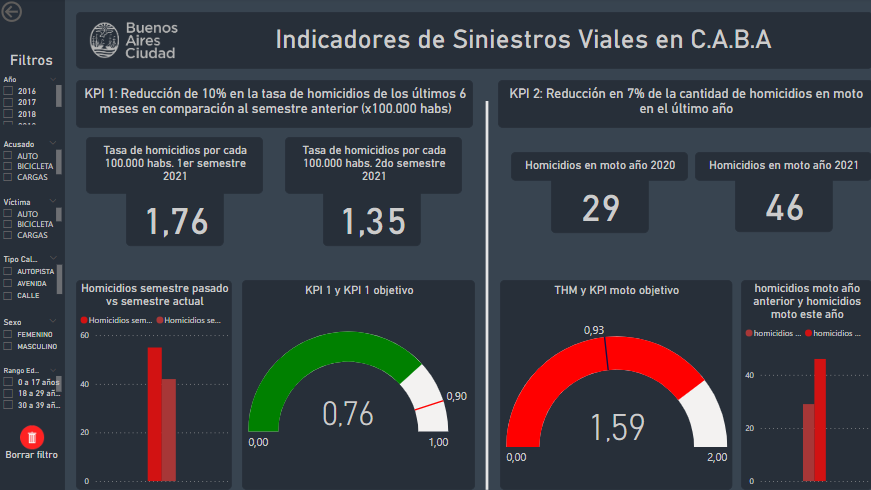

The dashboard page shown, as its layout file describes it:
{"tool":"powerbi","page":{"name":"KPI 1 y 2","canvas":[1280,720],"ordinal":2},"visuals":[{"type":"shape","box":[0,0,98,720],"z":0},{"type":"shape","box":[114.1,20.5,1166.3,83.4],"z":1000},{"type":"image","box":[113.5,20.7,169.8,83.4],"z":2000},{"type":"textbox","box":[331.5,32.4,873.7,60],"z":3000},{"type":"card","title":"Tasa de homicidios x 100.000 habs. Primer semestre 2021","fields":{"Values":["homicidios.TH semestre pasado"]},"box":[187.3,275.1,143.4,87.8],"z":4000},{"type":"gauge","fields":{"Y":["homicidios.KPI 1"],"TargetValue":["homicidios.KPI objetivo"]},"box":[357.1,412.7,341,307.3],"z":5000},{"type":"actionButton","box":[0,0,100,40],"z":6000},{"type":"clusteredColumnChart","title":"Homicidios semestre pasado vs semestre actual","fields":{"Y":["homicidios.Homicidios semestre pasado","homicidios.Homicidios semestre actual"]},"box":[114.1,412.7,228.3,307.3],"z":7000},{"type":"shape","box":[696.6,150.7,38,569.3],"z":8000},{"type":"gauge","fields":{"Y":["homicidios.THM"],"TargetValue":["homicidios.KPI moto objetivo"]},"box":[734.6,412.7,339.5,307.3],"z":9000},{"type":"clusteredColumnChart","fields":{"Y":["homicidios.homicidios moto año anterior","homicidios.homicidios moto este año"]},"box":[1087.3,412.7,191.7,307.3],"z":10000},{"type":"textbox","box":[114.1,120,581,70.2],"z":11000},{"type":"textbox","box":[731.7,120,548.8,70.2],"z":12000},{"type":"textbox","box":[128.8,203.4,259,83.4],"z":13000},{"type":"textbox","box":[420,203.4,259,83.4],"z":14000},{"type":"card","title":"Tasa de homicidios x 100.000 habs. Primer semestre 2021","fields":{"Values":["homicidios.TH semestre actual"]},"box":[475.6,275.1,143.4,87.8],"z":15000},{"type":"card","title":"Tasa de homicidios x 100.000 habs. Primer semestre 2021","fields":{"Values":["homicidios.homicidios moto año anterior"]},"box":[808.8,255.6,143.4,87.8],"z":16000},{"type":"textbox","box":[750.7,224.8,259,42.4],"z":17000},{"type":"card","title":"Tasa de homicidios x 100.000 habs. Primer semestre 2021","fields":{"Values":["homicidios.homicidios moto este año"]},"box":[1078.2,255.2,143.4,87.8],"z":18000},{"type":"textbox","box":[1020,224.8,259,42.4],"z":19000},{"type":"slicer","fields":{"Values":["victimas.FECHA.Variación.Jerarquía de fechas.Año"]},"box":[0,107.8,98,82],"z":20000},{"type":"slicer","fields":{"Values":["homicidios.TIPO_DE_CALLE"]},"box":[0,370.8,98.6,80.9],"z":21000},{"type":"image","box":[20.5,620,58.5,45.4],"z":22000},{"type":"slicer","fields":{"Values":["victimas.RANGO EDAD"]},"box":[0,533.7,98,73.2],"z":23000},{"type":"slicer","fields":{"Values":["homicidios.VICTIMA"]},"box":[0,201.5,98,73.2],"z":24000},{"type":"slicer","fields":{"Values":["victimas.VICTIMA"]},"box":[0,286.4,98,73.2],"z":25000},{"type":"textbox","box":[0,72.7,98,35.1],"z":26000},{"type":"slicer","fields":{"Values":["victimas.SEXO"]},"box":[0,462,98,80.5],"z":27000},{"type":"textbox","box":[0,654.1,98,32.2],"z":28000}]}

Visuals, with their boxes in screenshot pixels (x1, y1, x2, y2), scaled from the page's 1280x720 canvas onto the 871x490 screenshot:
shape: 0/0/67/489
shape: 78/14/870/71
image: 77/14/193/71
textbox: 226/22/820/63
"Tasa de homicidios x 100.000 habs. Primer semestre 2021" card: 127/187/225/247
gauge - homicidios.KPI 1 x homicidios.KPI objetivo: 243/281/475/489
actionButton: 0/0/68/27
"Homicidios semestre pasado vs semestre actual" clusteredColumnChart: 78/281/233/489
shape: 474/103/500/489
gauge - homicidios.THM x homicidios.KPI moto objetivo: 500/281/731/489
clusteredColumnChart - homicidios.homicidios moto año anterior x homicidios.homicidios moto este año: 740/281/870/489
textbox: 78/82/473/129
textbox: 498/82/870/129
textbox: 88/138/264/195
textbox: 286/138/462/195
"Tasa de homicidios x 100.000 habs. Primer semestre 2021" card: 324/187/421/247
"Tasa de homicidios x 100.000 habs. Primer semestre 2021" card: 550/174/648/234
textbox: 511/153/687/182
"Tasa de homicidios x 100.000 habs. Primer semestre 2021" card: 734/174/831/233
textbox: 694/153/870/182
slicer - victimas.FECHA.Variación.Jerarquía de fechas.Año: 0/73/67/129
slicer - homicidios.TIPO_DE_CALLE: 0/252/67/307
image: 14/422/54/453
slicer - victimas.RANGO EDAD: 0/363/67/413
slicer - homicidios.VICTIMA: 0/137/67/187
slicer - victimas.VICTIMA: 0/195/67/245
textbox: 0/49/67/73
slicer - victimas.SEXO: 0/314/67/369
textbox: 0/445/67/467
